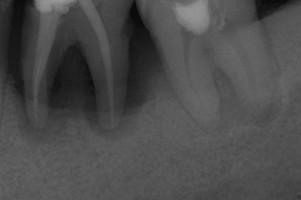Dental Caries: (16, 42, 163, 146), (207, 69, 281, 133)
